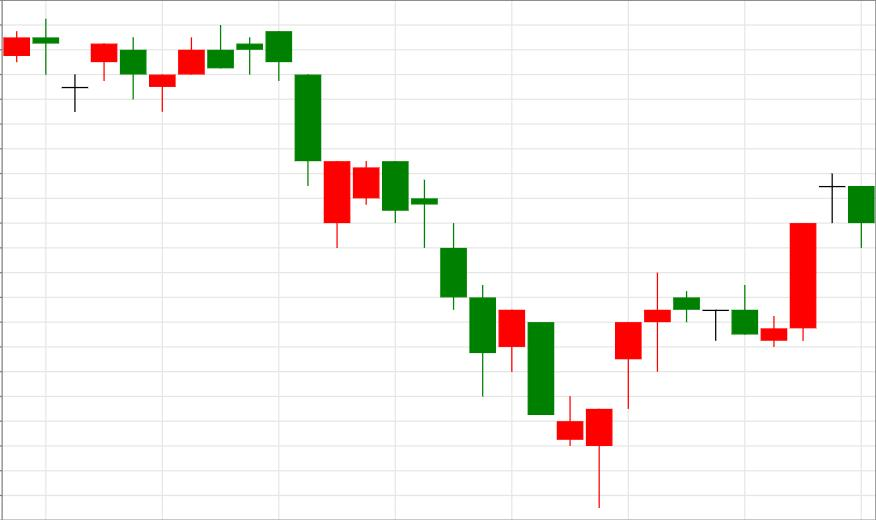hammer_rise: (382, 162, 613, 509)
